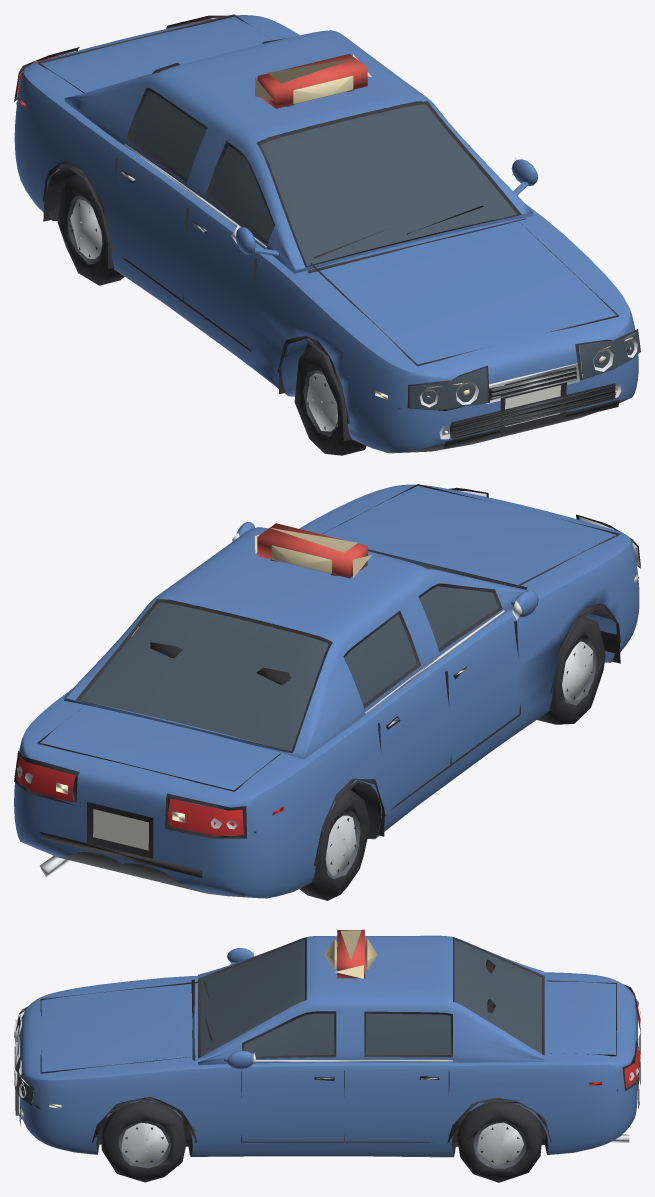
The model's file is CarV3_Cab_L1.fbx.
The picture shows the model from 3 angles, top to bottom: view 1: azimuth 30°, elevation 25°; view 2: azimuth 150°, elevation 25°; view 3: azimuth 270°, elevation 25°; orthographic projection. The views are drawn at different scales.
Parts seen in each view (by area): view 1: CarV3_Cab.001; view 2: CarV3_Cab.001; view 3: CarV3_Cab.001.
Part boxes in pixels (left/top/right/bottom): CarV3_Cab.001: left=14, top=14, right=640, bottom=455; CarV3_Cab.001: left=14, top=484, right=640, bottom=900; CarV3_Cab.001: left=14, top=929, right=640, bottom=1182.
Bounding box in the file's own units: 1.95 × 1.63 × 4.8.
